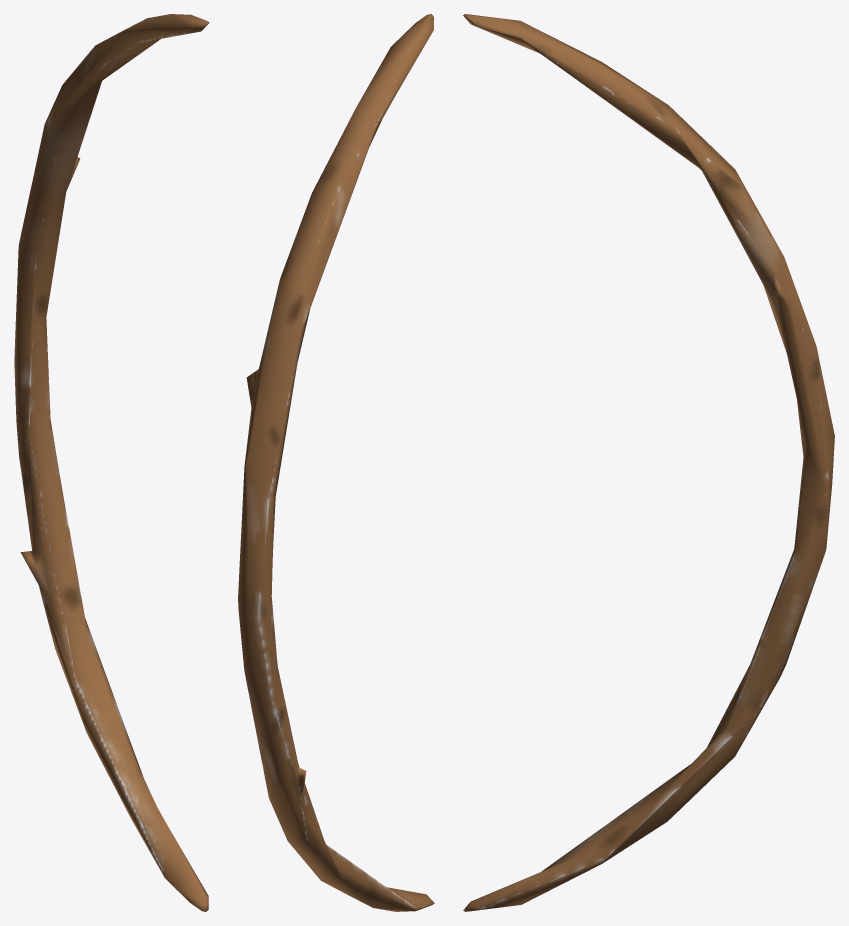
File: Bow.obj
3 views of the same model, side by side, from view 1: azimuth 30°, elevation 25°; view 2: azimuth 150°, elevation 25°; view 3: azimuth 270°, elevation 25° (orthographic).
Visible parts, largest first — view 1: Cube_Cube.001; view 2: Cube_Cube.001; view 3: Cube_Cube.001.
Part boxes in pixels (<box>): Cube_Cube.001: <box>14,14,209,911</box>; Cube_Cube.001: <box>238,14,434,911</box>; Cube_Cube.001: <box>463,14,834,911</box>.
Size of the model in its own units: 0.3106 by 4.41 by 1.66.
